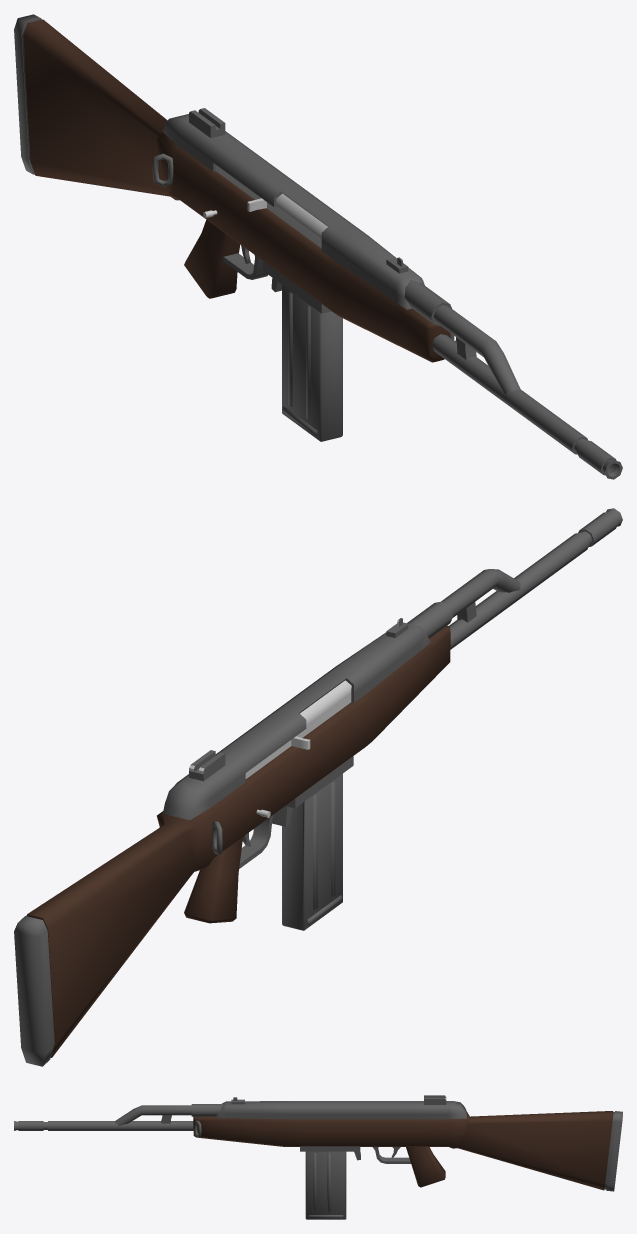
Rendered from Gun_A.fbx.
3 renders of one model, top to bottom at view 1: azimuth 30°, elevation 25°; view 2: azimuth 150°, elevation 25°; view 3: azimuth 270°, elevation 25°, orthographic. The views are drawn at different scales.
Visible parts, largest first — view 1: Gun_A, Gun_B_Bolt.001; view 2: Gun_A, Gun_B_Bolt.001; view 3: Gun_A.
Boxes of the visible parts, box(x1,y1,x2,y2) form: Gun_A: box(14, 14, 622, 479); Gun_B_Bolt.001: box(216, 165, 327, 248); Gun_A: box(14, 508, 622, 1066); Gun_B_Bolt.001: box(245, 680, 351, 778); Gun_A: box(14, 1095, 622, 1219).
Bounding box in the file's own units: 5.06 × 18.02 × 82.78.
